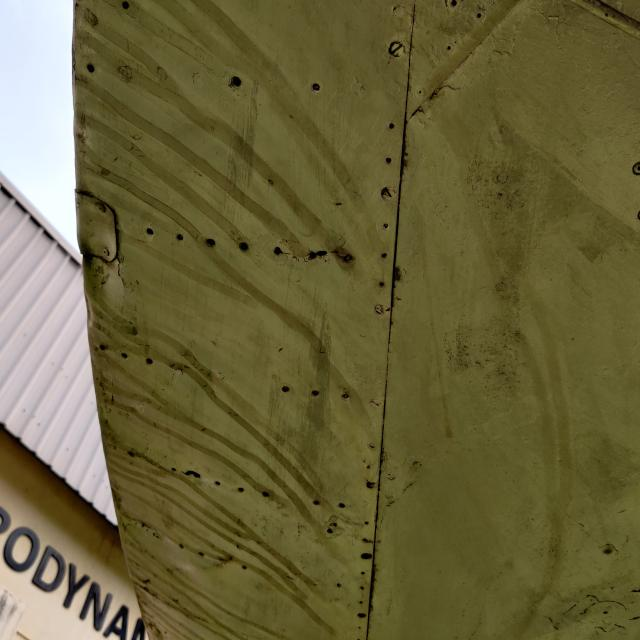crack: (299, 232, 339, 270), (178, 460, 208, 487)
